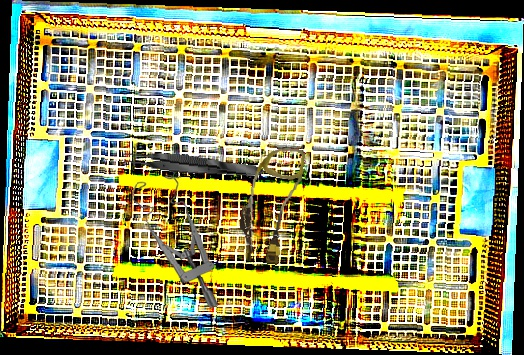Cannula: (235, 143, 306, 267)
Speculum: (129, 172, 220, 313)
Tissue Forceps: (122, 147, 265, 183)
